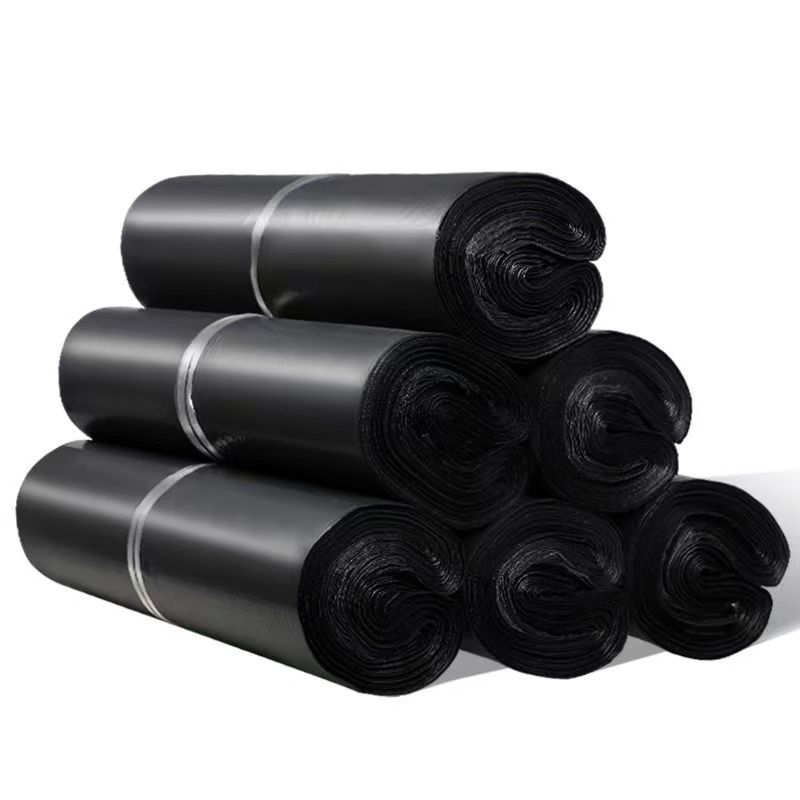塑料袋: (14, 170, 790, 698)
